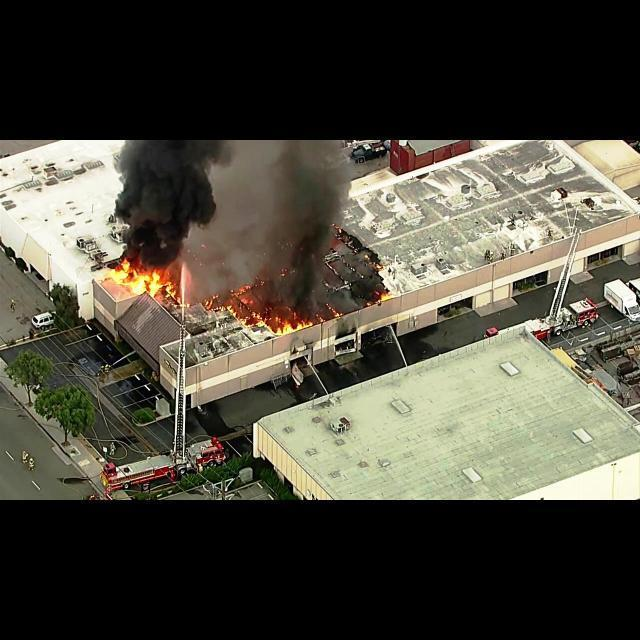Fire: (104, 252, 180, 290)
Smoke: (241, 140, 321, 310), (132, 142, 182, 255)
